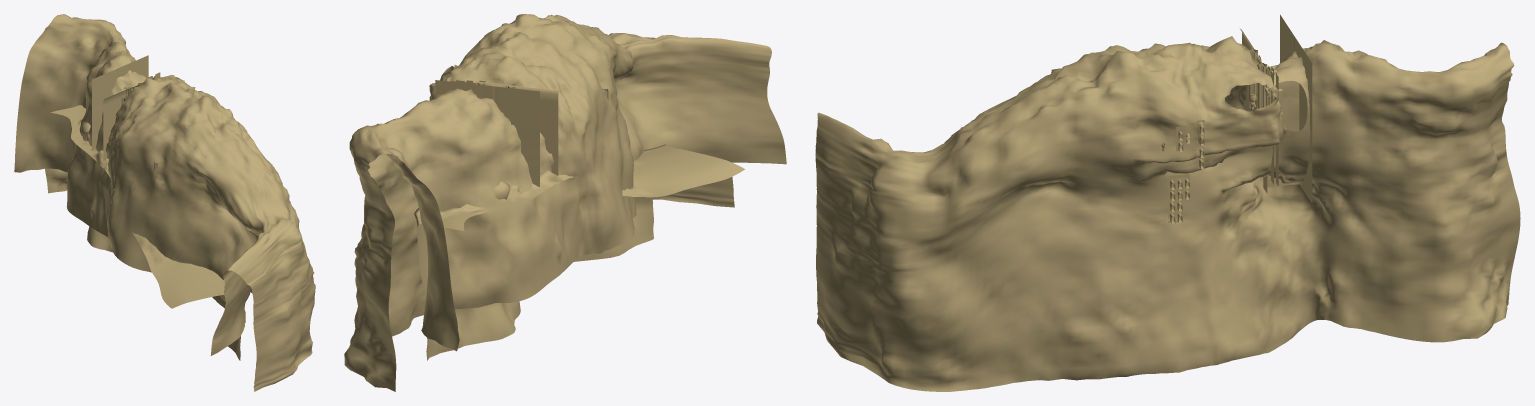
Rendered from WholeCaveExport.fbx.
3 renders of one model, left to right at view 1: azimuth 30°, elevation 25°; view 2: azimuth 150°, elevation 25°; view 3: azimuth 270°, elevation 25°, orthographic. The views are drawn at different scales.
Parts seen in each view (by area): view 1: Cave2, Ground, TallArch4; view 2: Cave2, Ground, TallArch4; view 3: Cave2, TallArch4.
Part boxes in pixels (x1,y1,x2,y2): Cave2: [14, 14, 315, 391]; Ground: [50, 105, 240, 360]; TallArch4: [92, 55, 148, 161]; Cave2: [344, 14, 786, 391]; Ground: [414, 144, 744, 360]; TallArch4: [435, 80, 558, 186]; Cave2: [815, 36, 1520, 391]; TallArch4: [1239, 14, 1312, 203].
Size of the model in its own units: 80.33 by 112 by 228.
